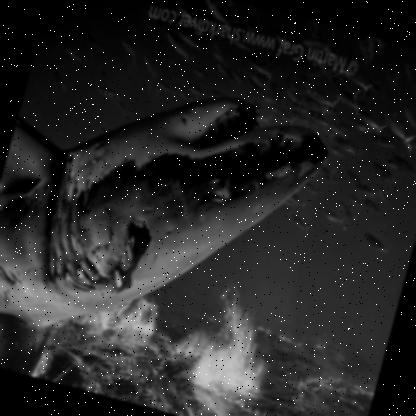white-shark: (0, 38, 338, 415)
